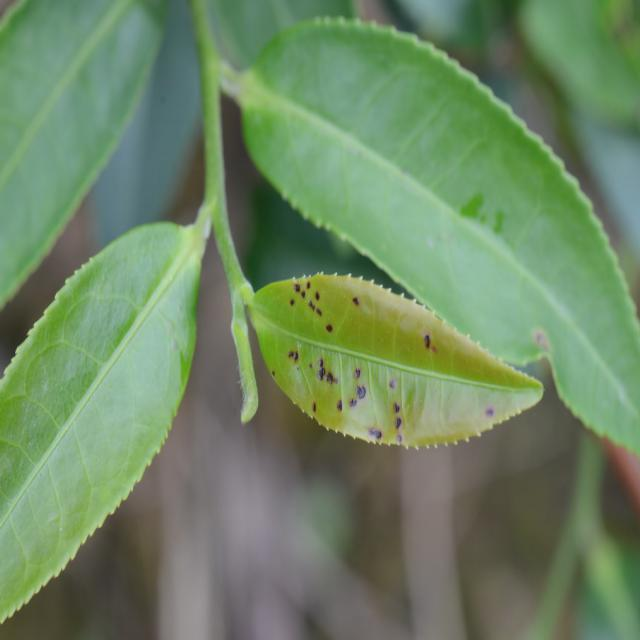Tea red scab: (290, 344, 503, 454), (285, 266, 454, 369)
